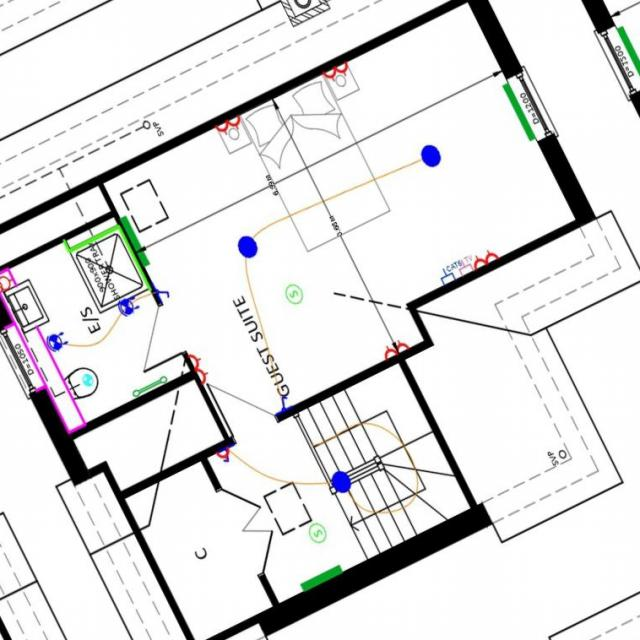Cat 6 Data Socket: (442, 261, 464, 285)
Ceiling Mounted Continuous Extract FanWith Boost Mode Activated By Light Switch: (82, 375, 94, 387)
Co-Ax TV Socket: (460, 256, 475, 276)
Double Socket: (190, 355, 209, 385), (216, 116, 242, 136), (385, 341, 410, 361), (475, 250, 499, 270), (325, 63, 349, 82)
Full Height Tiling: (63, 226, 152, 292)
Light Switch: (280, 397, 290, 412), (159, 290, 171, 300), (224, 449, 231, 465)
Low Energy Downlighter: (48, 332, 70, 353), (119, 298, 141, 318)
Low Energy Pendant Light: (421, 145, 442, 168), (238, 237, 258, 260), (332, 472, 352, 494)
Mains Wired Smoke Detector: (286, 285, 305, 306), (310, 524, 327, 545)
Radiator: (503, 83, 537, 142), (122, 216, 151, 268), (617, 27, 640, 85), (301, 566, 344, 592)
Shaver Socket: (0, 277, 15, 293)
Single Socket: (218, 449, 231, 464)
